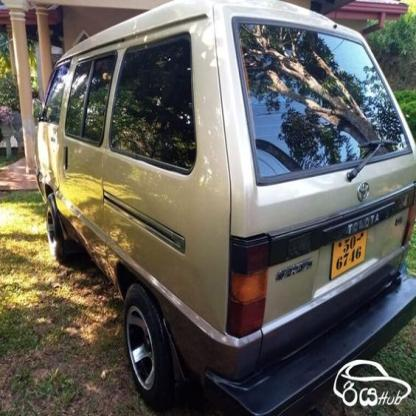number plate: (331, 229, 360, 273)
van back: (31, 1, 416, 416)
